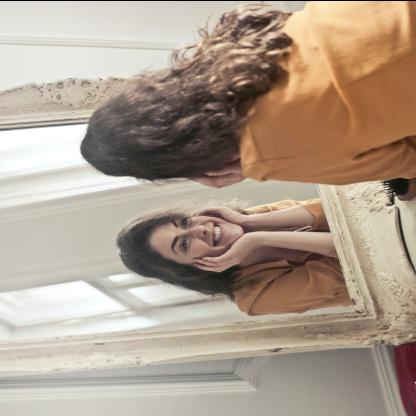Eye: (178, 236, 190, 251), (180, 217, 191, 229)
Mouth: (211, 220, 225, 246)
Nose: (184, 224, 208, 238)
